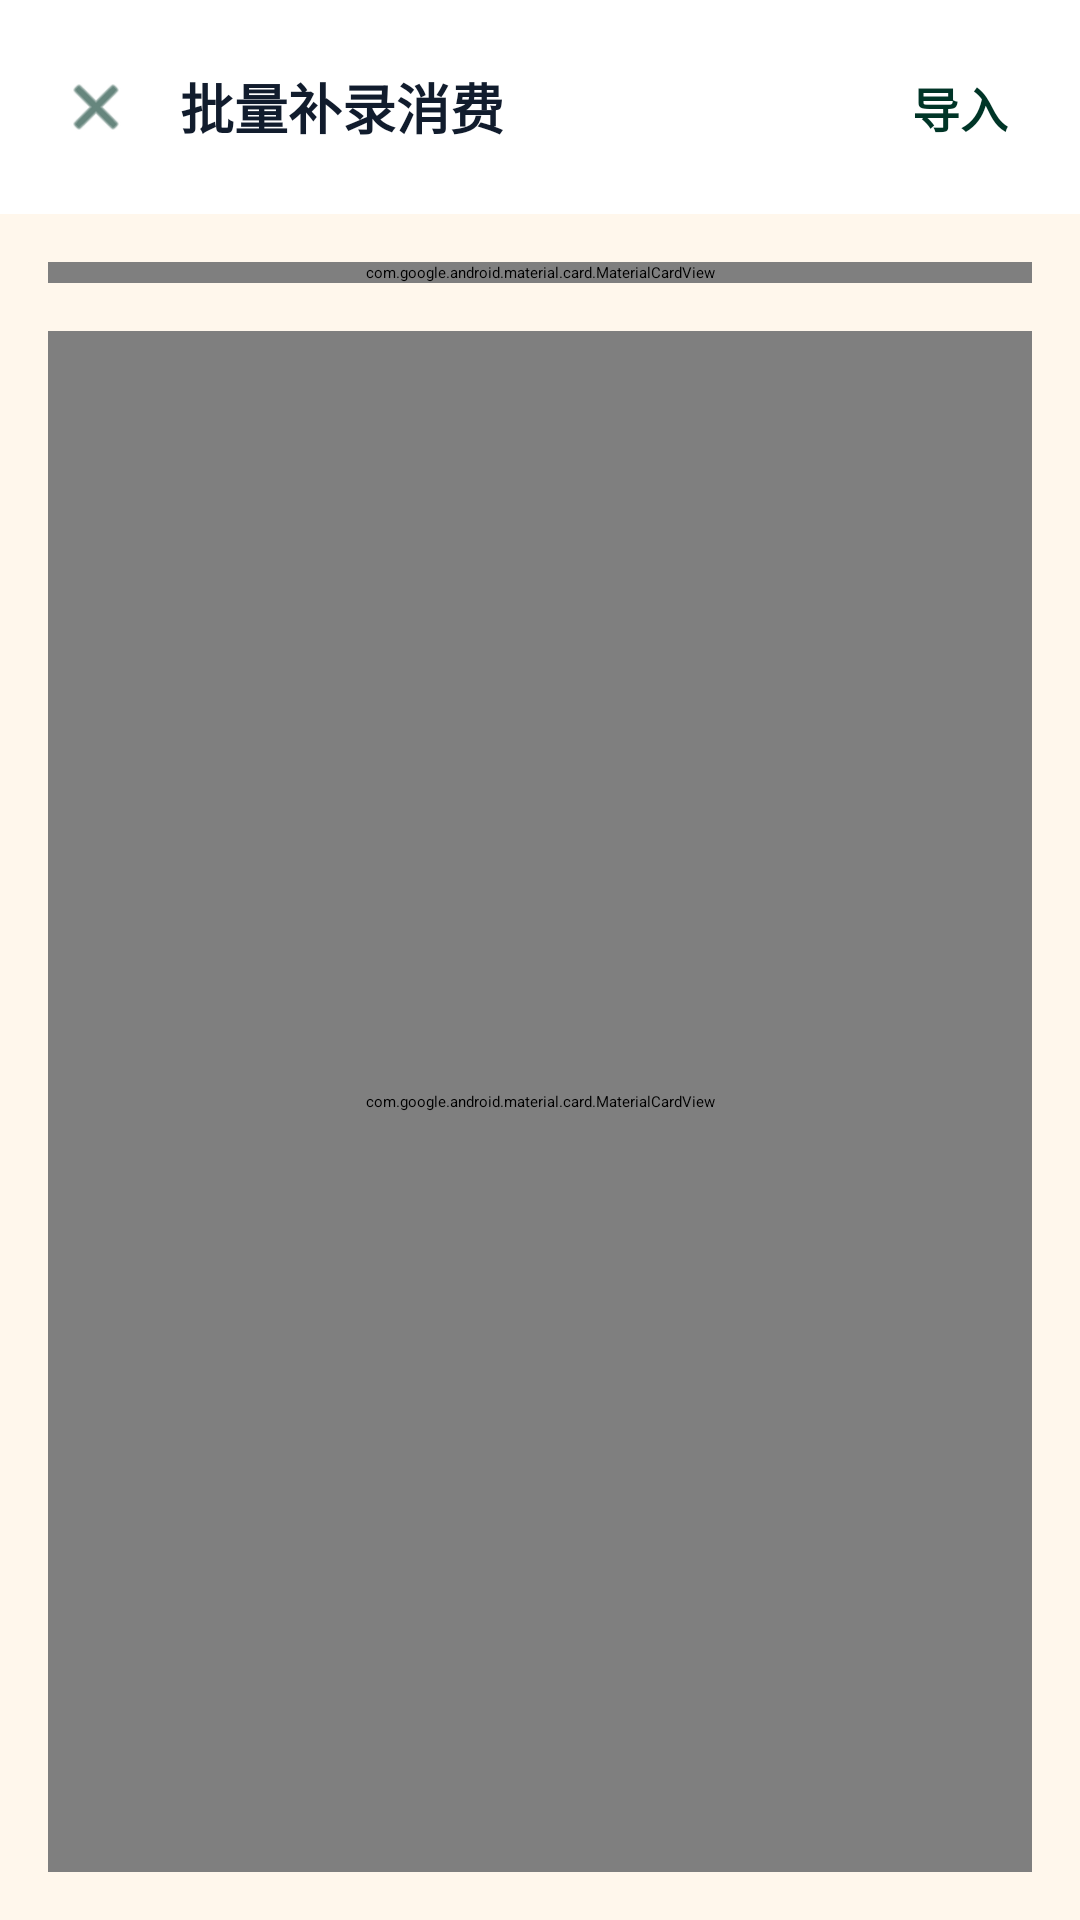

Where icons sit on this 1080px×1920px app screen, as (x1, y1, x2, y2):
close clear cancel: (73, 84, 119, 130)
